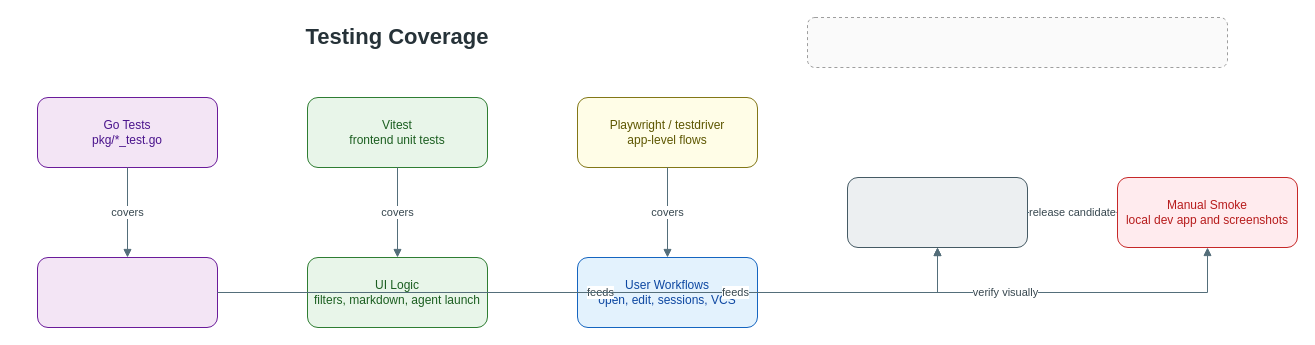
The diagram is 1315 pixels wide and 345 high, and some of its shapes have lost their labels. Each missing label, with the centre of its shape:
"Backend Logic aisessions, filestore, stream, vcs" goes at (127,292).
"CI / Release Checks GitHub Actions packaging" goes at (937,212).
"Main automated checks by layer and the high-risk gaps they cover." goes at (1017,42).
